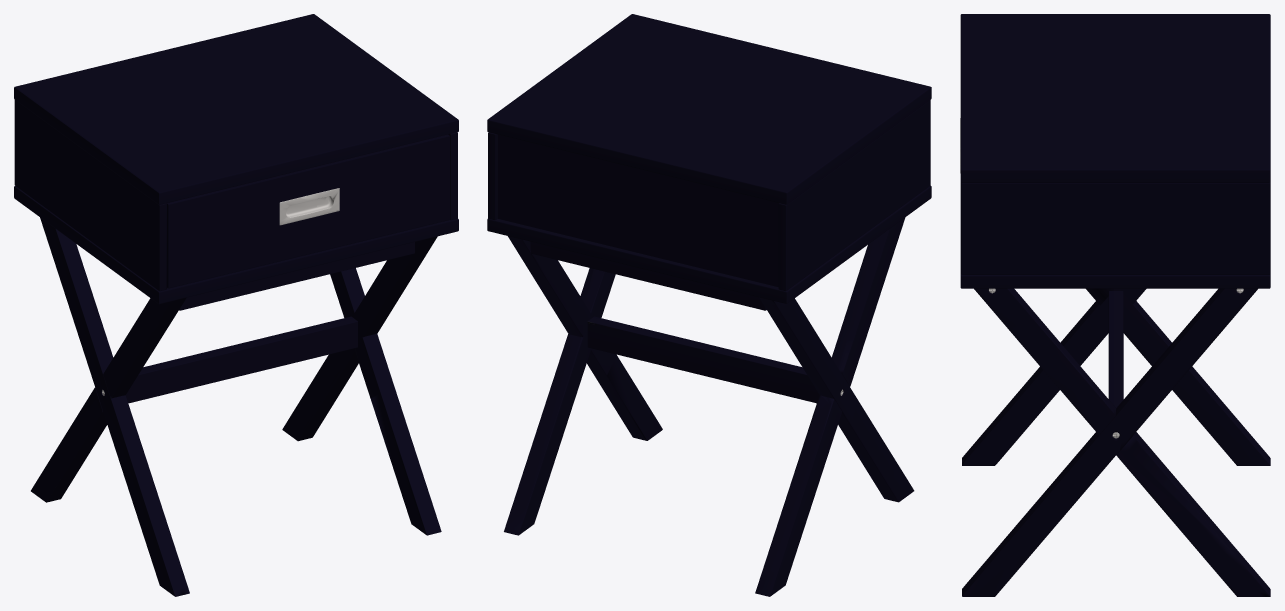
File: B07DBF1R71.glb
3 renders of one model, left to right at view 1: azimuth 30°, elevation 25°; view 2: azimuth 150°, elevation 25°; view 3: azimuth 270°, elevation 25°, orthographic. The views are drawn at different scales.
Visible parts, largest first — view 1: RootNode; view 2: RootNode; view 3: RootNode.
Part boxes in pixels (box(x1,y1,x2,y2)): RootNode: box(14, 14, 458, 596); RootNode: box(487, 14, 931, 596); RootNode: box(960, 14, 1270, 596).
Bounding box in the file's own units: 0.4793 × 0.6229 × 0.4021.
Materials: 1 (1 with a texture image).
